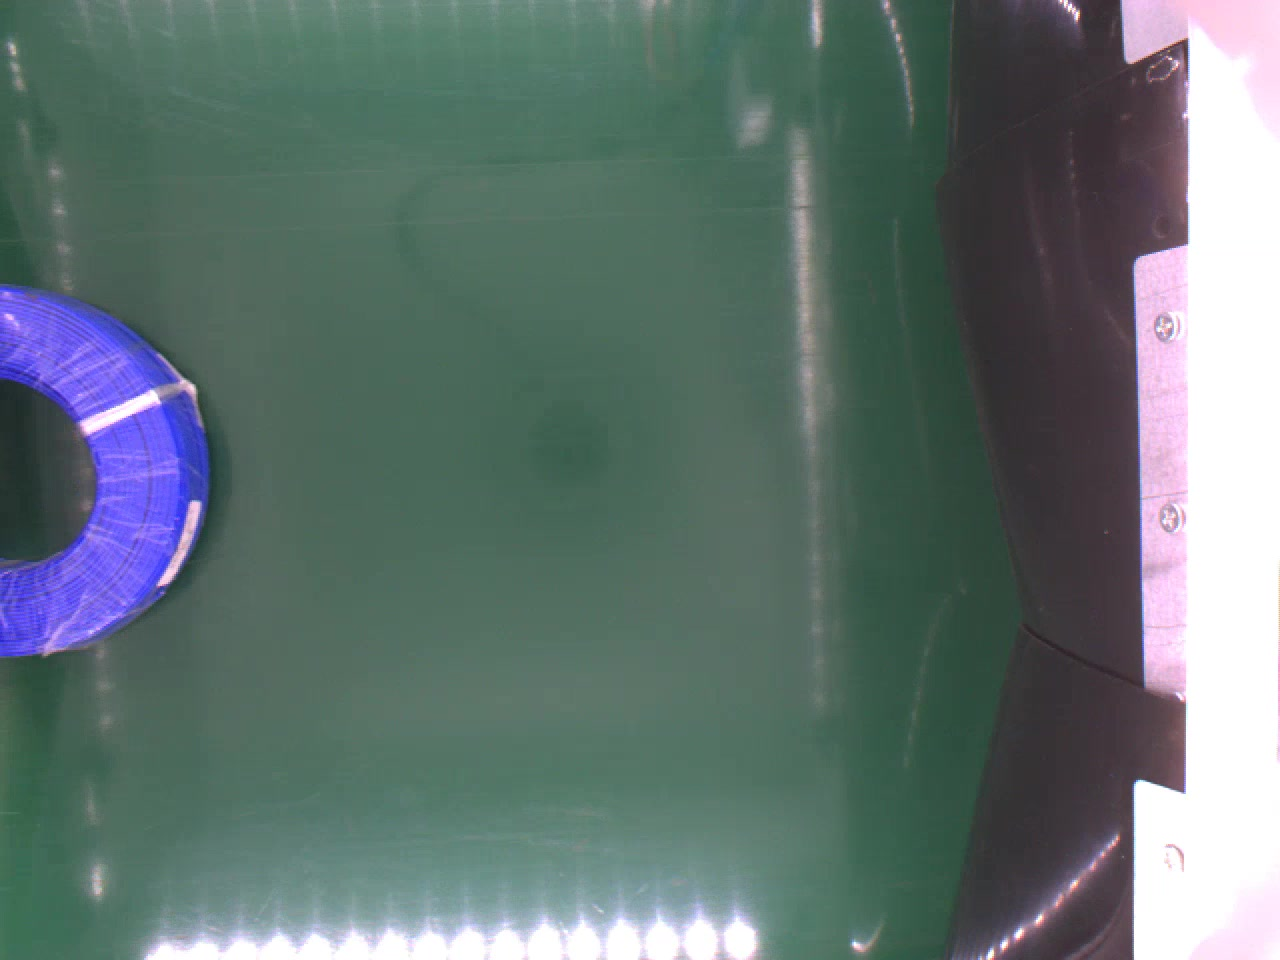blue: (0, 281, 211, 663)
